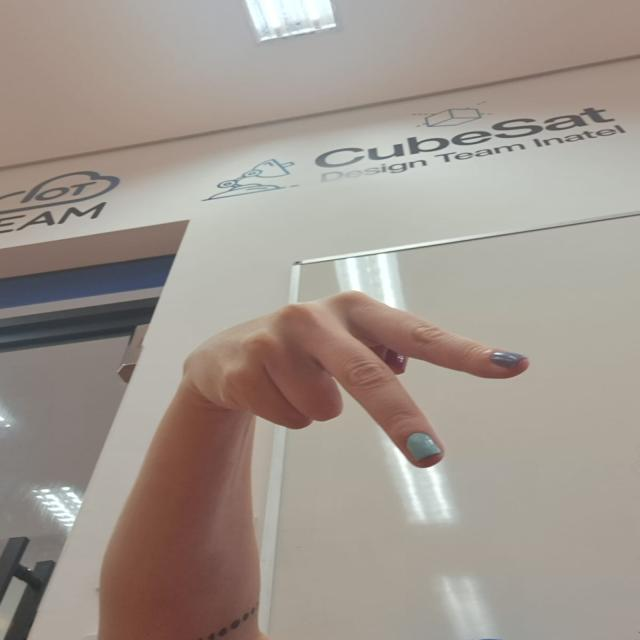P: (176, 280, 544, 470)
